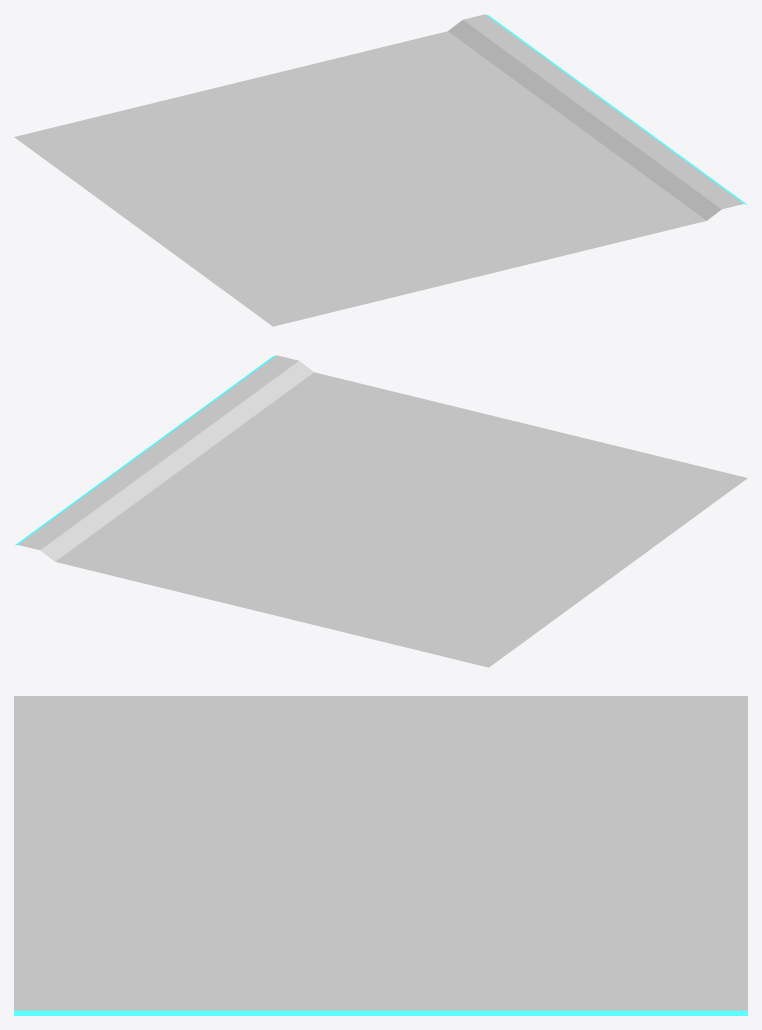
File: SM_SideTile1.fbx
The picture shows the model from 3 angles, top to bottom: view 1: azimuth 30°, elevation 25°; view 2: azimuth 150°, elevation 25°; view 3: azimuth 270°, elevation 25°; orthographic projection. The views are drawn at different scales.
Parts seen in each view (by area): view 1: Plane.162; view 2: Plane.162; view 3: Plane.162.
Boxes of the visible parts, x1,y1,x2,y2 form: Plane.162: [14, 14, 746, 326]; Plane.162: [15, 355, 747, 667]; Plane.162: [14, 696, 747, 1015].
Size of the model in its own units: 6.35 by 6 by 0.1.
